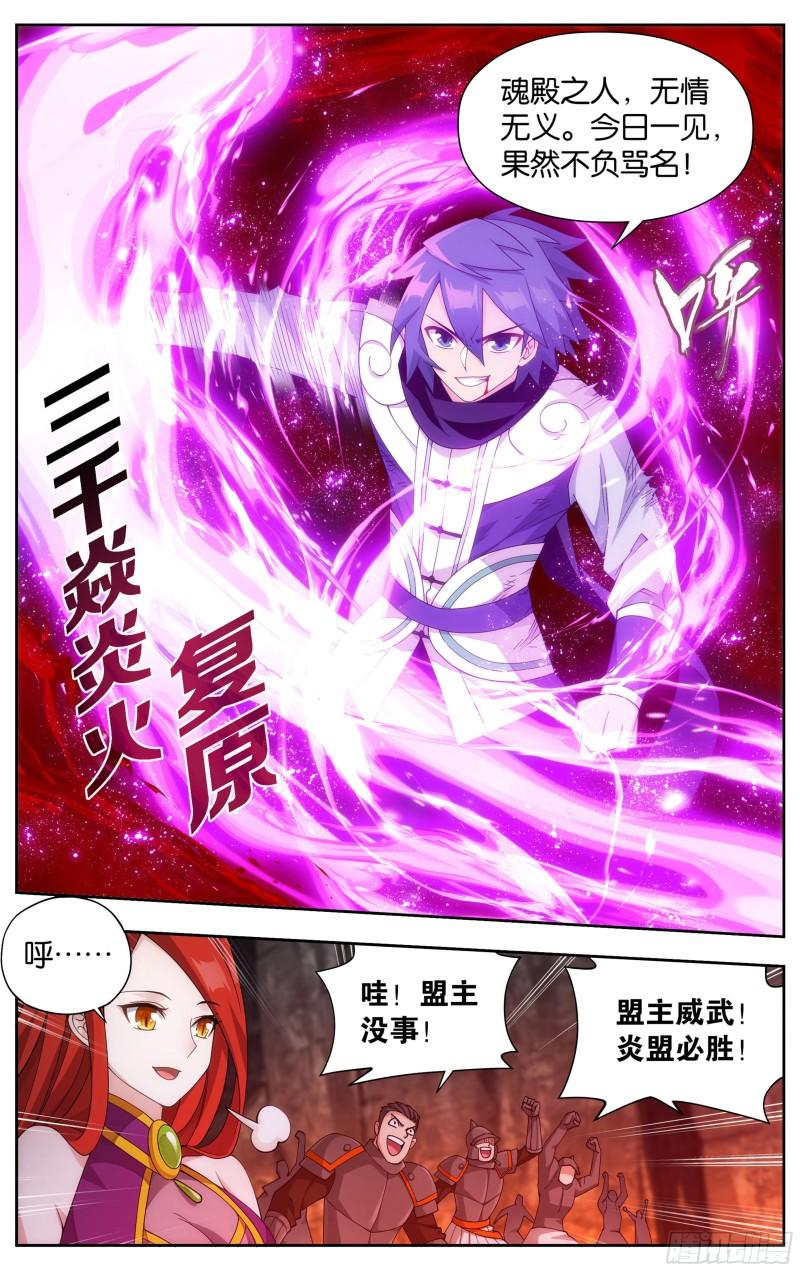boxBomb: (561, 946, 792, 1123), (312, 934, 522, 1096)
boxEllipse: (450, 29, 756, 236), (0, 892, 132, 1021)
minBox: (9, 17, 789, 943), (3, 913, 792, 1255)
